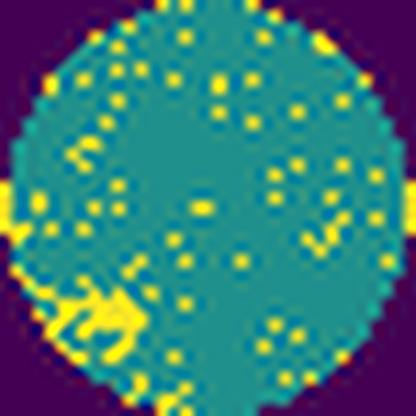Edge-Loc: (10, 264, 149, 365)
